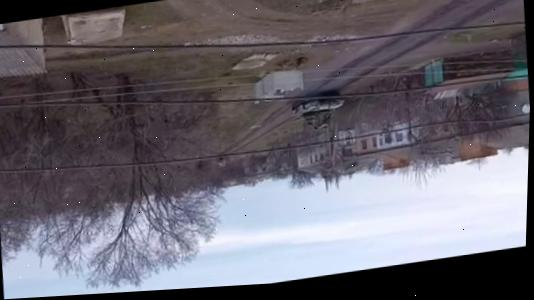tank: (285, 89, 346, 133)
